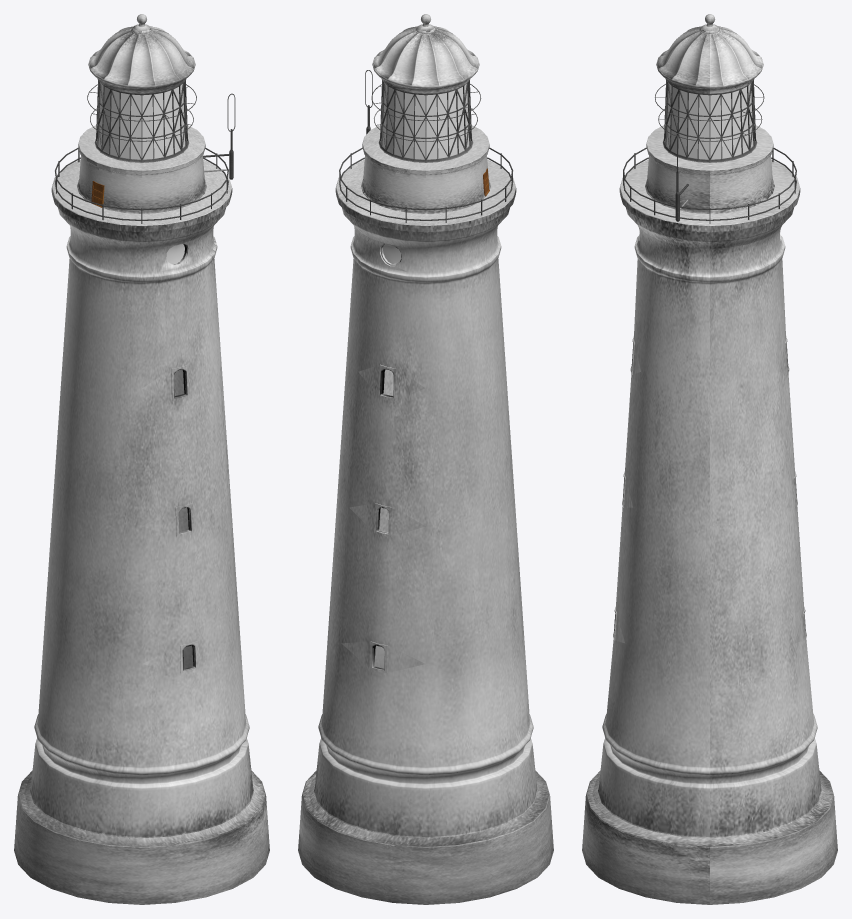
File: light_house.glb
3 renders of one model, left to right at view 1: azimuth 30°, elevation 25°; view 2: azimuth 150°, elevation 25°; view 3: azimuth 270°, elevation 25°, orthographic.
Parts seen in each view (by area): view 1: Object001_02 - Default_0, Object003_02 - Default_0, LightHouse_Toren_final_Toren_final_Tower_Toren_final_Toren_f, Object004_02 - Default_0, Object__0; view 2: Object001_02 - Default_0, Object003_02 - Default_0, Object004_02 - Default_0, LightHouse_Toren_final_Toren_final_Tower_Toren_final_Toren_f, Object__0; view 3: Object001_02 - Default_0, Object003_02 - Default_0, Object004_02 - Default_0, LightHouse_Toren_final_Toren_final_Tower_Toren_final_Toren_f, Object__0.
Boxes of the visible parts, x1,y1,x2,y2 form: Object001_02 - Default_0: [14, 144, 269, 904]; Object003_02 - Default_0: [18, 125, 265, 846]; LightHouse_Toren_final_Toren_final_Tower_Toren_final_Toren_f: [54, 80, 235, 223]; Object004_02 - Default_0: [88, 25, 195, 93]; Object__0: [97, 84, 186, 159]; Object001_02 - Default_0: [298, 144, 553, 904]; Object003_02 - Default_0: [302, 125, 549, 846]; Object004_02 - Default_0: [372, 26, 479, 93]; LightHouse_Toren_final_Toren_final_Tower_Toren_final_Toren_f: [339, 70, 513, 222]; Object__0: [381, 84, 470, 159]; Object001_02 - Default_0: [582, 126, 837, 904]; Object003_02 - Default_0: [586, 125, 833, 846]; Object004_02 - Default_0: [656, 26, 763, 93]; LightHouse_Toren_final_Toren_final_Tower_Toren_final_Toren_f: [623, 80, 796, 223]; Object__0: [665, 84, 754, 159].
Size of the model in its own units: 12.73 by 45.63 by 12.66.
Materials: 2 (1 with a texture image).
